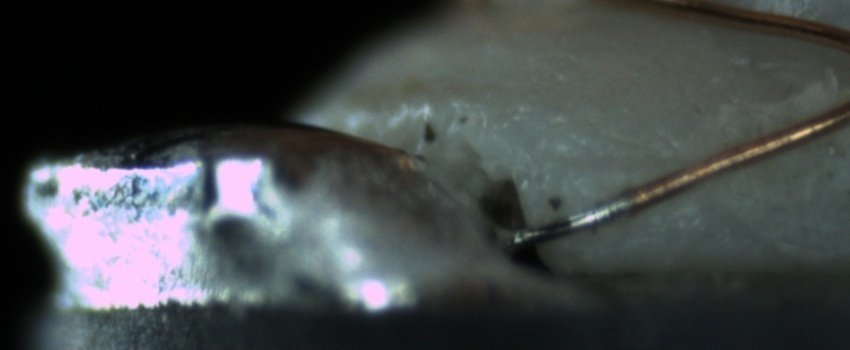DL: (545, 133, 686, 199)
TS: (504, 193, 633, 246)
